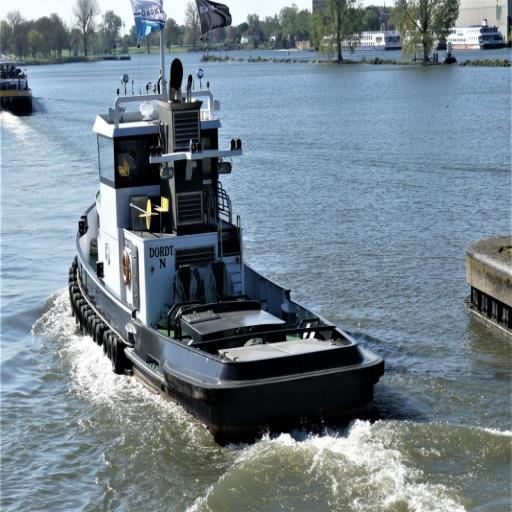tugboat: (66, 5, 390, 463)
